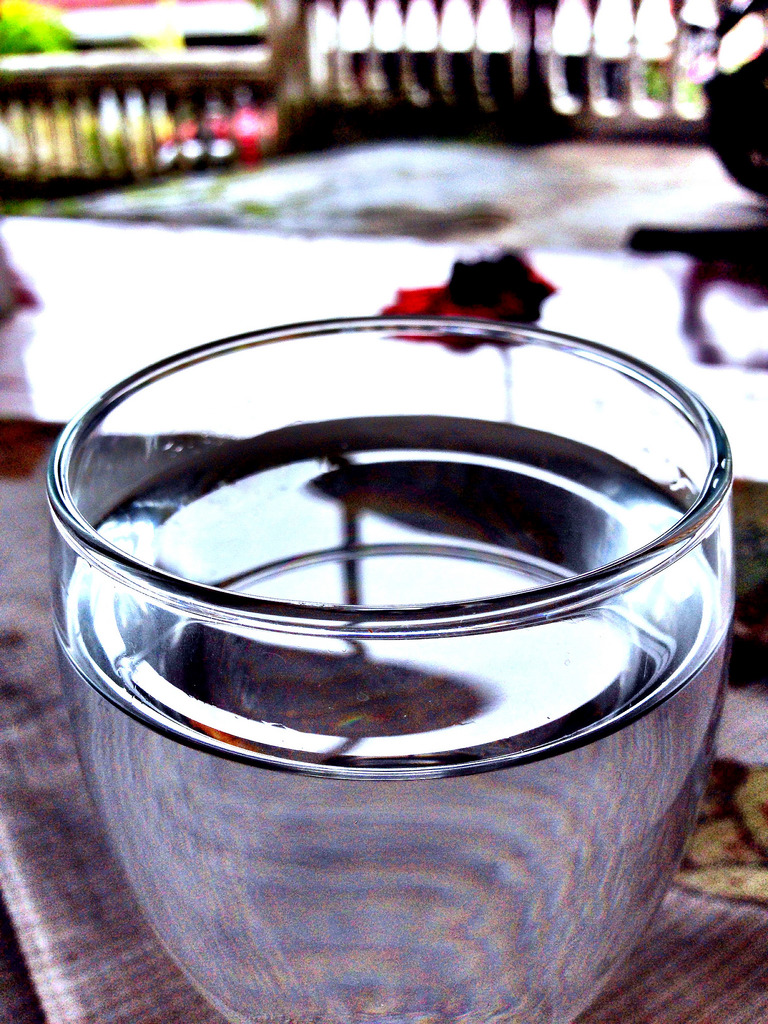glass of water: (35, 281, 743, 1024)
